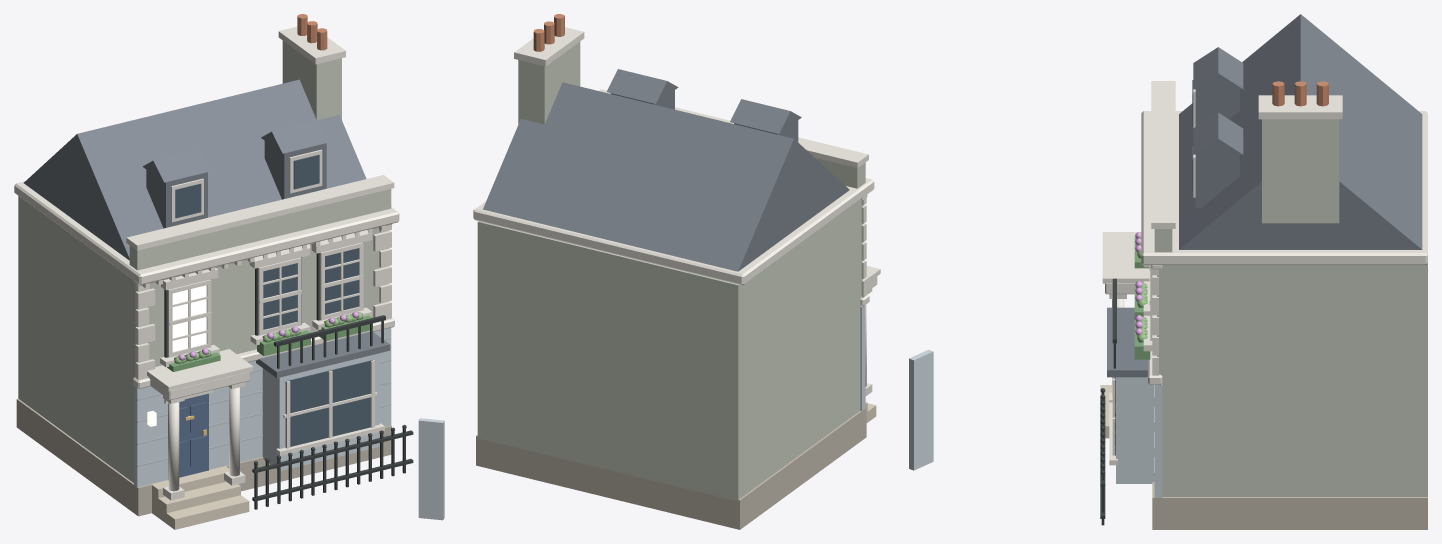
Rendered from terrace-c-2.glb.
The picture shows the model from 3 angles, left to right: view 1: azimuth 30°, elevation 25°; view 2: azimuth 150°, elevation 25°; view 3: azimuth 270°, elevation 25°; orthographic projection. The views are drawn at different scales.
Parts seen in each view (by area): view 1: terrace-c-2; view 2: terrace-c-2; view 3: terrace-c-2.
Boxes of the visible parts, x1,y1,x2,y2 form: terrace-c-2: (14,14,444,529); terrace-c-2: (473,14,880,529); terrace-c-2: (909,14,1427,529).
Bounding box in the file's own units: 3.08 × 4.37 × 4.69.
